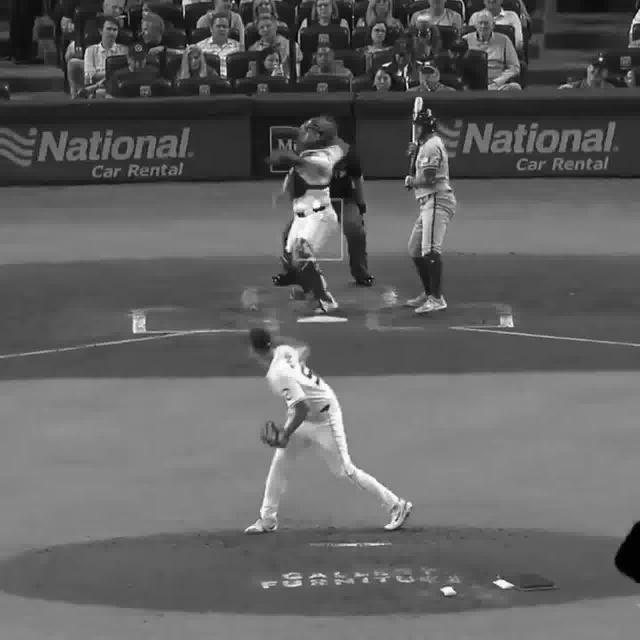base: (296, 314, 348, 325)
baseball_glove: (259, 422, 285, 449), (263, 152, 301, 168)
bat: (402, 92, 428, 194)
shoe: (382, 498, 412, 530), (245, 515, 279, 537), (418, 296, 446, 318), (402, 292, 438, 306), (308, 301, 344, 312)
